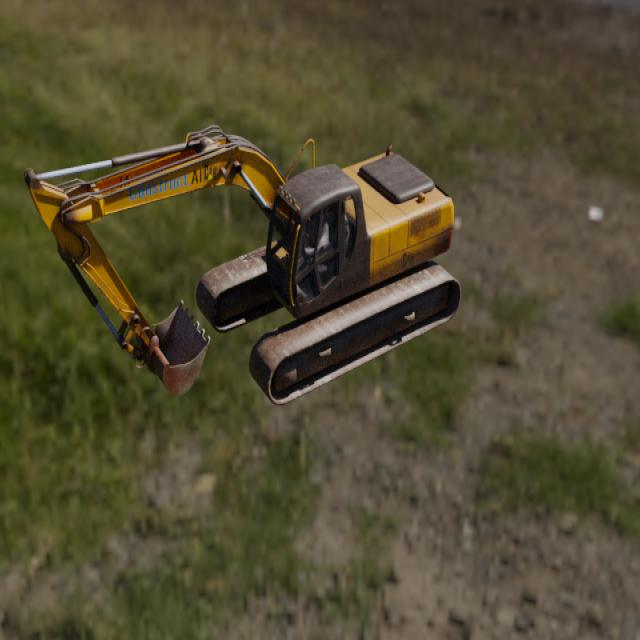excavator: (23, 124, 461, 405)
